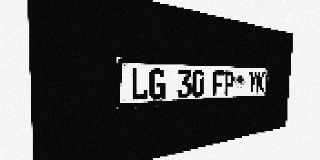0: (191, 70, 205, 97)
3: (177, 69, 192, 98)
F: (212, 70, 224, 96)
G: (149, 69, 166, 100)
K: (256, 72, 265, 93)
L: (130, 68, 149, 101)
P: (223, 71, 234, 95)
Y: (248, 71, 257, 93)
